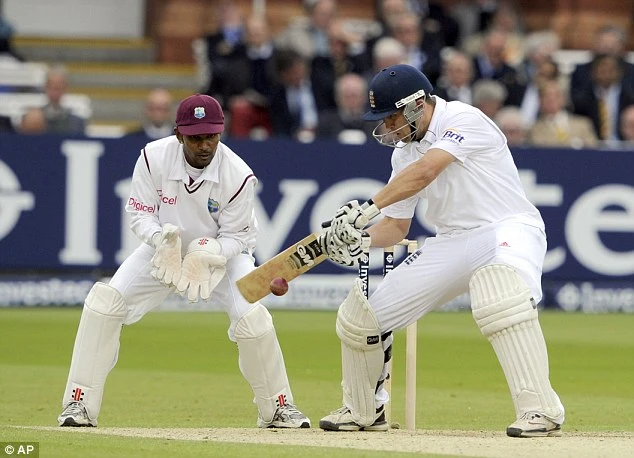Cutshot: (218, 15, 585, 458)
